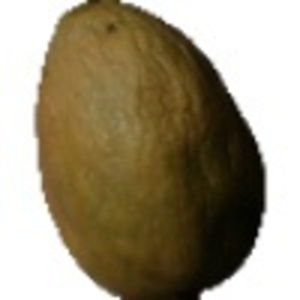mamão: (20, 3, 283, 292)
